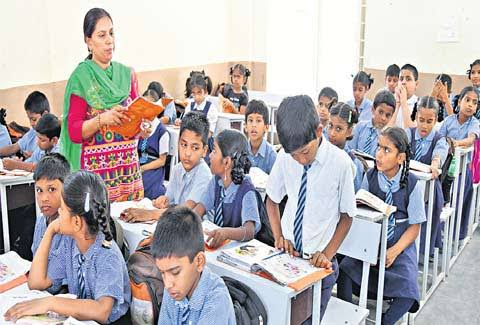student: (148, 205, 216, 301), (54, 169, 117, 247), (26, 152, 78, 216), (277, 95, 321, 169), (173, 115, 210, 172), (373, 125, 413, 176), (203, 133, 247, 179), (323, 100, 363, 148), (239, 97, 276, 142), (412, 94, 439, 141), (393, 62, 427, 97), (373, 88, 400, 130), (455, 84, 480, 119), (350, 69, 373, 101)
